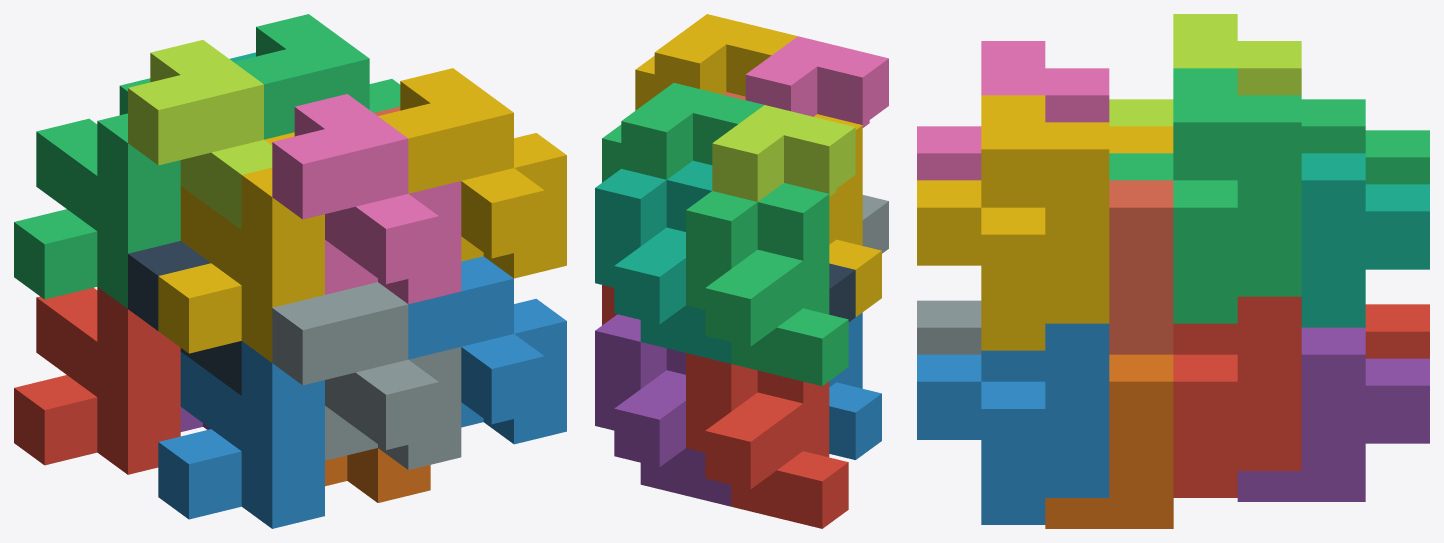
The model's file is tiling.obj.
3 views of the same model, side by side, from view 1: azimuth 30°, elevation 25°; view 2: azimuth 150°, elevation 25°; view 3: azimuth 270°, elevation 25° (orthographic). The views are drawn at different scales.
Visible parts, largest first — view 1: copy_2_domain_4, copy_2_domain_2, copy_1_domain_1, copy_2_domain_8, copy_1_domain_2, copy_1_domain_3, copy_1_domain_4, copy_2_domain_6, copy_2_domain_3, copy_2_domain_7, copy_2_domain_1, copy_1_domain_6; view 2: copy_1_domain_3, copy_1_domain_1, copy_1_domain_7, copy_1_domain_5, copy_2_domain_3, copy_2_domain_4, copy_2_domain_7, copy_2_domain_8, copy_1_domain_4, copy_1_domain_2, copy_2_domain_1, copy_2_domain_2 (+1 smaller); view 3: copy_2_domain_8, copy_2_domain_7, copy_2_domain_6, copy_2_domain_5, copy_1_domain_5, copy_1_domain_7, copy_1_domain_6, copy_1_domain_8, copy_2_domain_4, copy_2_domain_3, copy_1_domain_3, copy_1_domain_1 (+2 smaller).
Boxes of the visible parts, left/top/right/bottom form: copy_2_domain_4: left=272, top=94, right=461, bottom=304; copy_2_domain_2: left=272, top=282, right=461, bottom=469; copy_1_domain_1: left=14, top=287, right=180, bottom=474; copy_2_domain_8: left=378, top=68, right=566, bottom=278; copy_1_domain_2: left=158, top=341, right=324, bottom=528; copy_1_domain_3: left=14, top=78, right=180, bottom=308; copy_1_domain_4: left=158, top=132, right=324, bottom=362; copy_2_domain_6: left=408, top=256, right=566, bottom=444; copy_2_domain_3: left=128, top=40, right=272, bottom=229; copy_2_domain_7: left=234, top=14, right=400, bottom=139; copy_2_domain_1: left=128, top=241, right=241, bottom=395; copy_1_domain_6: left=325, top=448, right=430, bottom=502; copy_1_domain_3: left=686, top=183, right=848, bottom=385; copy_1_domain_1: left=686, top=353, right=848, bottom=528; copy_1_domain_7: left=595, top=160, right=731, bottom=363; copy_1_domain_5: left=595, top=314, right=731, bottom=506; copy_2_domain_3: left=712, top=105, right=855, bottom=201; copy_2_domain_4: left=745, top=36, right=888, bottom=127; copy_2_domain_7: left=602, top=83, right=763, bottom=182; copy_2_domain_8: left=635, top=14, right=797, bottom=110; copy_1_domain_4: left=814, top=114, right=881, bottom=316; copy_1_domain_2: left=829, top=312, right=881, bottom=459; copy_2_domain_1: left=829, top=263, right=855, bottom=321; copy_2_domain_2: left=862, top=195, right=888, bottom=253; copy_2_domain_8: left=917, top=95, right=1109, bottom=350; copy_2_domain_7: left=1109, top=68, right=1301, bottom=323; copy_2_domain_6: left=917, top=323, right=1109, bottom=524; copy_2_domain_5: left=1173, top=296, right=1301, bottom=497; copy_1_domain_5: left=1237, top=327, right=1429, bottom=501; copy_1_domain_7: left=1301, top=153, right=1429, bottom=327; copy_1_domain_6: left=1045, top=354, right=1173, bottom=528; copy_1_domain_8: left=1109, top=180, right=1173, bottom=354; copy_2_domain_4: left=917, top=41, right=1109, bottom=180; copy_2_domain_3: left=1109, top=14, right=1301, bottom=126; copy_1_domain_3: left=1301, top=99, right=1429, bottom=184; copy_1_domain_1: left=1365, top=304, right=1429, bottom=358.
Size of the model in its own units: 7 by 7 by 8.
